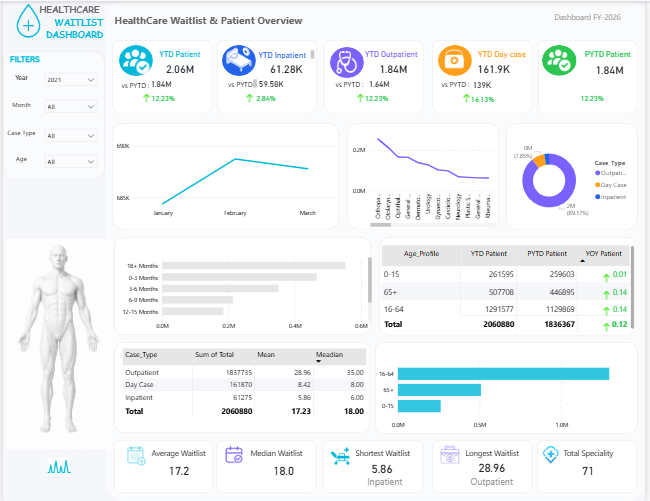

This screenshot's page, from the dashboard's own definition file:
{"tool":"powerbi","page":{"name":"Page 1","canvas":[1350,1050],"ordinal":0},"visuals":[{"type":"shape","box":[0,106,214,270],"z":0},{"type":"shape","box":[215.8,0,1134.2,1050],"z":1000},{"type":"shape","box":[723.4,255.3,319.1,223.4],"z":2000},{"type":"shape","box":[780.4,716.1,551.8,192.9],"z":3000},{"type":"shape","box":[232.9,715.8,538.2,190.8],"z":4000},{"type":"shape","box":[228.5,81.5,209.1,154.1],"z":5000},{"type":"textbox","box":[228.5,20.2,507.3,43.7],"z":6000},{"type":"shape","box":[450,81.5,209.1,154.1],"z":7000},{"type":"shape","box":[675,81.5,209.1,154.1],"z":8000},{"type":"shape","box":[901.8,81.5,209.1,154.1],"z":9000},{"type":"shape","box":[1123.2,81.5,209.1,154.1],"z":10000},{"type":"shape","box":[229.8,255.3,476.6,223.4],"z":11000},{"type":"shape","box":[1055.3,255.3,276.6,223.4],"z":12000},{"type":"shape","box":[233.1,495.6,539.7,205.8],"z":13000},{"type":"shape","box":[788.9,495.6,542.2,206.7],"z":14000},{"type":"shape","box":[233.1,921.9,207.9,111.3],"z":15000},{"type":"shape","box":[672,921.9,212.1,111.3],"z":16000},{"type":"shape","box":[1121.4,921.9,210,111.3],"z":17000},{"type":"shape","box":[900.9,921.9,210,111.3],"z":18000},{"type":"shape","box":[447.3,921.9,210,111.3],"z":19000},{"type":"card","fields":{"Values":["All_Data.YTD Patient"]},"box":[333.3,125.4,76.2,34.9],"z":20000},{"type":"textbox","box":[315.9,96.8,112.7,28.6],"z":21000},{"type":"textbox","box":[243.6,161.7,77.7,33.6],"z":22000},{"type":"card","fields":{"Values":["All_Data.PYTD Patient"]},"box":[303.2,158.7,58.7,33.3],"z":23000},{"type":"card","fields":{"Values":["All_Data.YOY Patient"]},"box":[303.2,192.1,68.3,30.2],"z":24000},{"type":"card","fields":{"Values":["All_Data.YTD Inpatient"]},"box":[554,125.4,81,33.3],"z":25000},{"type":"textbox","box":[522.6,99.2,136.4,28.3],"z":26000},{"type":"textbox","box":[467.5,160,70,35],"z":27000},{"type":"card","fields":{"Values":["All_Data.PYTD Inpatient"]},"box":[531.7,160.3,63.5,31.7],"z":28000},{"type":"card","fields":{"Values":["All_Data.YOY Inpatient"]},"box":[523.8,192.1,58.7,30.2],"z":29000},{"type":"card","fields":{"Values":["All_Data.YTD Outpatient"]},"box":[779.4,125.4,81,33.3],"z":30000},{"type":"textbox","box":[749.4,97.4,131.1,30.1],"z":31000},{"type":"textbox","box":[692.5,160,80,32.5],"z":32000},{"type":"card","fields":{"Values":["All_Data.PYTD Outpatient"]},"box":[757.1,160.3,63.5,31.7],"z":33000},{"type":"card","fields":{"Values":["All_Data.YOY Outpatient"]},"box":[749.2,192.1,69.8,30.2],"z":34000},{"type":"textbox","box":[986.3,96.1,121.6,29.4],"z":35000},{"type":"card","fields":{"Values":["All_Data.YTD Daycase"]},"box":[985.7,125,91.1,32.1],"z":36000},{"type":"textbox","box":[915,160,77.5,30],"z":37000},{"type":"card","fields":{"Values":["All_Data.PYTD Day Case"]},"box":[975,160.7,62.5,32.1],"z":38000},{"type":"card","fields":{"Values":["All_Data.YOY Day Case"]},"box":[971.4,192.9,69.6,30.4],"z":39000},{"type":"textbox","box":[1203.9,96.1,133.3,31.4],"z":40000},{"type":"card","fields":{"Values":["All_Data.PYTD Patient"]},"box":[1227.5,127.5,90.2,31.4],"z":41000},{"type":"tableEx","fields":{"Values":["All_Data.Age_Profile","All_Data.YTD Patient","All_Data.PYTD Patient","All_Data.YOY Patient"]},"box":[788.9,508.9,542.2,193.3],"z":42000},{"type":"lineChart","fields":{"Y":["All_Data.Total Waitlist"],"Category":["Calendar.Month name"]},"box":[234,289.4,472.3,174.5],"z":43000},{"type":"donutChart","fields":{"Category":["All_Data.Case_Type"],"Y":["All_Data.Total Waitlist"]},"box":[1046.8,289.4,285.1,174.5],"z":44000},{"type":"barChart","fields":{"Category":["All_Data.Time_Bands"],"Y":["All_Data.Total Waitlist"]},"box":[239.4,525,539.7,176.4],"z":45000},{"type":"tableEx","fields":{"Values":["All_Data.Case_Type","Sum(All_Data.Total)","All_Data.Mean","All_Data.Meadian"]},"box":[244.7,725,522.4,172.4],"z":46000},{"type":"clusteredBarChart","fields":{"Category":["All_Data.Age_Profile"],"Y":["All_Data.Total Waitlist"]},"box":[780.4,742.9,548.2,164.3],"z":47000},{"type":"card","fields":{"Values":["All_Data.Mean"]},"box":[333.3,962.7,70.6,47.1],"z":48000},{"type":"shape","box":[243.6,92.4,71.4,65.1],"z":49000},{"type":"shape","box":[459.9,92.4,71.4,65.1],"z":50000},{"type":"shape","box":[686.7,96.6,71.4,65.1],"z":51000},{"type":"shape","box":[913.5,92.4,71.4,65.1],"z":52000},{"type":"shape","box":[1131.4,92.2,72.5,64.7],"z":53000},{"type":"image","box":[243.6,88.2,69.3,71.4],"z":54000},{"type":"image","box":[462,88.2,67.2,69.3],"z":55000},{"type":"image","box":[690.9,96.6,63,65.1],"z":56000},{"type":"image","box":[919.8,96.6,56.7,50.4],"z":57000},{"type":"image","box":[730.8,186.9,39.9,33.6],"z":58000},{"type":"image","box":[497.7,186.9,39.9,33.6],"z":59000},{"type":"image","box":[281.4,186.9,39.9,33.6],"z":60000},{"type":"image","box":[953.4,186.9,39.9,33.6],"z":61000},{"type":"image","box":[1247.4,564.9,39.9,33.6],"z":62000},{"type":"image","box":[1247.4,600.6,39.9,33.6],"z":63000},{"type":"image","box":[1247.4,634.2,39.9,33.6],"z":64000},{"type":"image","box":[1247.4,667.8,39.9,33.6],"z":65000},{"type":"image","box":[0,478.9,234.2,484.2],"z":66000},{"type":"image","box":[78.9,942.1,76.3,68.4],"z":67000},{"type":"textbox","box":[0,0,215.8,107.9],"z":68000},{"type":"image","box":[0,0,107.5,82.5],"z":69000},{"type":"textbox","box":[305.9,935.3,133.3,41.2],"z":70000},{"type":"textbox","box":[515.4,934.6,134.6,40.4],"z":71000},{"type":"card","fields":{"Values":["All_Data.Meadian"]},"box":[553.8,963.5,69.2,46.2],"z":72000},{"type":"image","box":[233.3,928.6,90.5,52.4],"z":73000},{"type":"image","box":[450.8,928.6,66.7,49.2],"z":74000},{"type":"lineChart","fields":{"Category":["All_Data.Specialty_Name"],"Y":["All_Data.Total Waitlist"]},"box":[728.4,255.4,312.2,223],"z":75000},{"type":"textbox","box":[735,935,135,40],"z":76000},{"type":"textbox","box":[965,935,135,40],"z":77000},{"type":"textbox","box":[756.9,964.7,78.4,45.1],"z":78000},{"type":"textbox","box":[986.3,962.7,78.4,45.1],"z":79000},{"type":"textbox","box":[735.3,992.2,133.3,41.2],"z":80000},{"type":"textbox","box":[958.8,992.2,133.3,41.2],"z":81000},{"type":"image","box":[674.5,929.4,66.7,51],"z":82000},{"type":"image","box":[903.9,925.5,70.6,51],"z":83000},{"type":"slicer","fields":{"Values":["Calendar.Year"]},"box":[78.7,140.4,129.8,46.8],"z":84000},{"type":"slicer","fields":{"Values":["Calendar.Month name"]},"box":[78.7,197.9,129.8,46.8],"z":85000},{"type":"slicer","fields":{"Values":["All_Data.Case_Type"]},"box":[78.7,257.4,129.8,46.8],"z":86000},{"type":"slicer","fields":{"Values":["All_Data.Time_Bands"]},"box":[78.7,312.8,129.8,46.8],"z":87000},{"type":"textbox","box":[0,144,78,34],"z":88000},{"type":"textbox","box":[0,204,78,34],"z":89000},{"type":"textbox","box":[0,262,78,34],"z":90000},{"type":"textbox","box":[0,318,78,34],"z":91000},{"type":"textbox","box":[0,108,92,32],"z":92000},{"type":"image","box":[1131.9,89.4,68.1,61.7],"z":93000},{"type":"card","fields":{"Values":["All_Data.YOY Patient"]},"box":[1204.3,191.5,68.1,29.8],"z":94000},{"type":"textbox","box":[1153.2,19.1,172.3,34],"z":95000},{"type":"textbox","box":[1172.2,935.2,133.3,40.7],"z":96000},{"type":"card","fields":{"Values":["Count(All_Data.Specialty_Name)"]},"box":[1203.7,964.8,50,42.6],"z":97000},{"type":"image","box":[1110.6,912.8,78.7,85.1],"z":98000}]}

Visuals, with their boxes in screenshot pixels (x1, y1, x2, y2), scaled from the page's 1350x1050 canvas onto the 650x501 screenshot:
shape: BBox(0, 51, 103, 179)
shape: BBox(104, 0, 649, 500)
shape: BBox(348, 122, 502, 228)
shape: BBox(376, 342, 641, 434)
shape: BBox(112, 342, 371, 433)
shape: BBox(110, 39, 211, 112)
textbox: BBox(110, 10, 354, 30)
shape: BBox(217, 39, 317, 112)
shape: BBox(325, 39, 426, 112)
shape: BBox(434, 39, 535, 112)
shape: BBox(541, 39, 641, 112)
shape: BBox(111, 122, 340, 228)
shape: BBox(508, 122, 641, 228)
shape: BBox(112, 236, 372, 335)
shape: BBox(380, 236, 641, 335)
shape: BBox(112, 440, 212, 493)
shape: BBox(324, 440, 426, 493)
shape: BBox(540, 440, 641, 493)
shape: BBox(434, 440, 535, 493)
shape: BBox(215, 440, 316, 493)
card - All_Data.YTD Patient: BBox(160, 60, 197, 76)
textbox: BBox(152, 46, 206, 60)
textbox: BBox(117, 77, 155, 93)
card - All_Data.PYTD Patient: BBox(146, 76, 174, 92)
card - All_Data.YOY Patient: BBox(146, 92, 179, 106)
card - All_Data.YTD Inpatient: BBox(267, 60, 306, 76)
textbox: BBox(252, 47, 317, 61)
textbox: BBox(225, 76, 259, 93)
card - All_Data.PYTD Inpatient: BBox(256, 76, 287, 92)
card - All_Data.YOY Inpatient: BBox(252, 92, 280, 106)
card - All_Data.YTD Outpatient: BBox(375, 60, 414, 76)
textbox: BBox(361, 46, 424, 61)
textbox: BBox(333, 76, 372, 92)
card - All_Data.PYTD Outpatient: BBox(365, 76, 395, 92)
card - All_Data.YOY Outpatient: BBox(361, 92, 394, 106)
textbox: BBox(475, 46, 533, 60)
card - All_Data.YTD Daycase: BBox(475, 60, 518, 75)
textbox: BBox(441, 76, 478, 91)
card - All_Data.PYTD Day Case: BBox(469, 77, 500, 92)
card - All_Data.YOY Day Case: BBox(468, 92, 501, 107)
textbox: BBox(580, 46, 644, 61)
card - All_Data.PYTD Patient: BBox(591, 61, 634, 76)
tableEx - All_Data.Age_Profile x All_Data.YTD Patient: BBox(380, 243, 641, 335)
lineChart - All_Data.Total Waitlist x Calendar.Month name: BBox(113, 138, 340, 221)
donutChart - All_Data.Case_Type x All_Data.Total Waitlist: BBox(504, 138, 641, 221)
barChart - All_Data.Time_Bands x All_Data.Total Waitlist: BBox(115, 250, 375, 335)
tableEx - All_Data.Case_Type x Sum(All_Data.Total): BBox(118, 346, 369, 428)
clusteredBarChart - All_Data.Age_Profile x All_Data.Total Waitlist: BBox(376, 354, 640, 433)
card - All_Data.Mean: BBox(160, 459, 194, 482)
shape: BBox(117, 44, 152, 75)
shape: BBox(221, 44, 256, 75)
shape: BBox(331, 46, 365, 77)
shape: BBox(440, 44, 474, 75)
shape: BBox(545, 44, 580, 75)
image: BBox(117, 42, 151, 76)
image: BBox(222, 42, 255, 75)
image: BBox(333, 46, 363, 77)
image: BBox(443, 46, 470, 70)
image: BBox(352, 89, 371, 105)
image: BBox(240, 89, 259, 105)
image: BBox(135, 89, 155, 105)
image: BBox(459, 89, 478, 105)
image: BBox(601, 270, 620, 286)
image: BBox(601, 287, 620, 303)
image: BBox(601, 303, 620, 319)
image: BBox(601, 319, 620, 335)
image: BBox(0, 229, 113, 460)
image: BBox(38, 450, 75, 482)
textbox: BBox(0, 0, 104, 51)
image: BBox(0, 0, 52, 39)
textbox: BBox(147, 446, 211, 466)
textbox: BBox(248, 446, 313, 465)
card - All_Data.Meadian: BBox(267, 460, 300, 482)
image: BBox(112, 443, 156, 468)
image: BBox(217, 443, 249, 467)
lineChart - All_Data.Specialty_Name x All_Data.Total Waitlist: BBox(351, 122, 501, 228)
textbox: BBox(354, 446, 419, 465)
textbox: BBox(465, 446, 530, 465)
textbox: BBox(364, 460, 402, 482)
textbox: BBox(475, 459, 513, 481)
textbox: BBox(354, 473, 418, 493)
textbox: BBox(462, 473, 526, 493)
image: BBox(325, 443, 357, 468)
image: BBox(435, 442, 469, 466)
slicer - Calendar.Year: BBox(38, 67, 100, 89)
slicer - Calendar.Month name: BBox(38, 94, 100, 117)
slicer - All_Data.Case_Type: BBox(38, 123, 100, 145)
slicer - All_Data.Time_Bands: BBox(38, 149, 100, 172)
textbox: BBox(0, 69, 38, 85)
textbox: BBox(0, 97, 38, 114)
textbox: BBox(0, 125, 38, 141)
textbox: BBox(0, 152, 38, 168)
textbox: BBox(0, 52, 44, 67)
image: BBox(545, 43, 578, 72)
card - All_Data.YOY Patient: BBox(580, 91, 613, 106)
textbox: BBox(555, 9, 638, 25)
textbox: BBox(564, 446, 629, 466)
card - Count(All_Data.Specialty_Name): BBox(580, 460, 604, 481)
image: BBox(535, 436, 573, 476)
